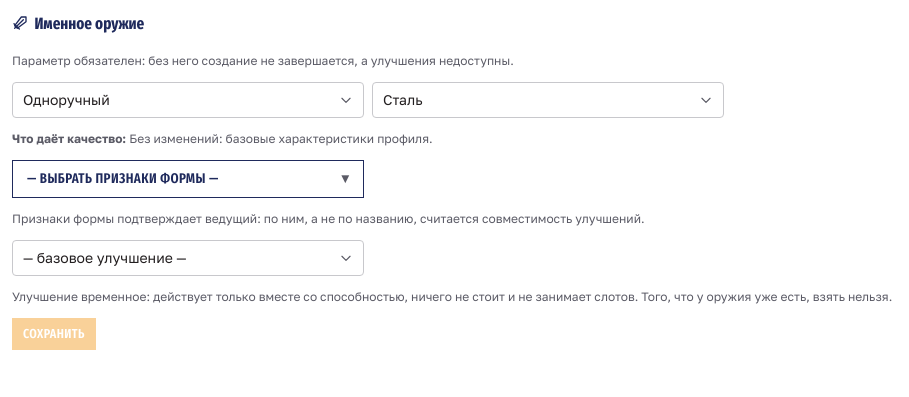
Scenario: HeroicParameterSection (ROT-HA-02) › показывает описание выбранного базового улучшения
The width and height of the screenshot is (909, 397).
Press the mouse on the dropdown labelled "базовое улучшение" at (188, 258), box [12, 240, 364, 276]
Click the dropdown labelled "базовое улучшение" at (188, 258), box [12, 240, 364, 276]
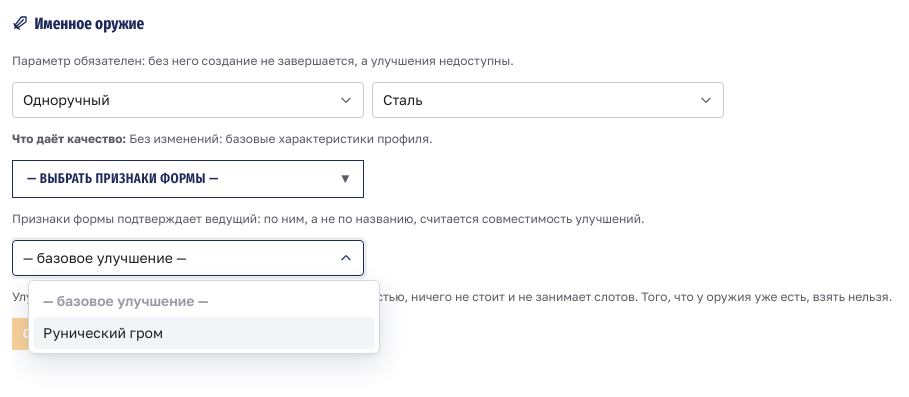
Click the option "Рунический гром" at (103, 333), box [33, 317, 375, 350]
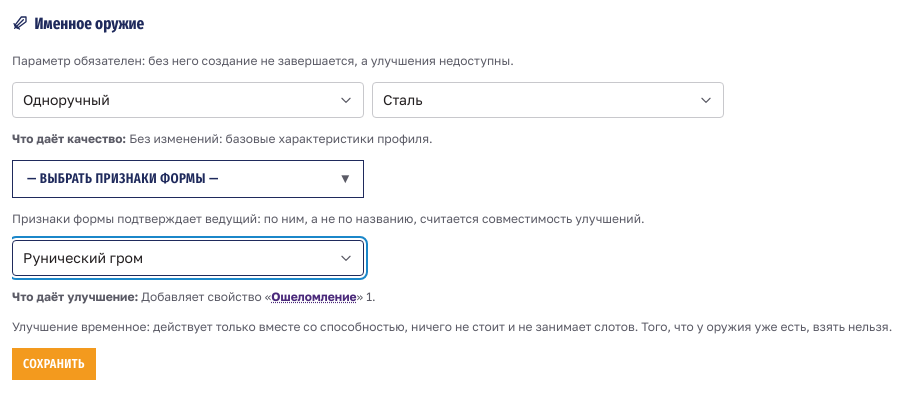
Check: the text "Что даёт улучшение: Добавляет свойство « Ошеломление » 1." is shown, box [12, 289, 376, 304]
